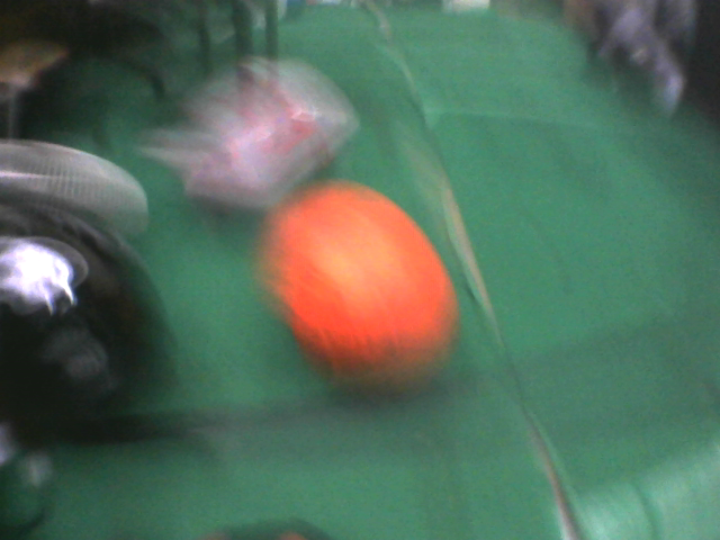bola: (263, 183, 471, 415)
